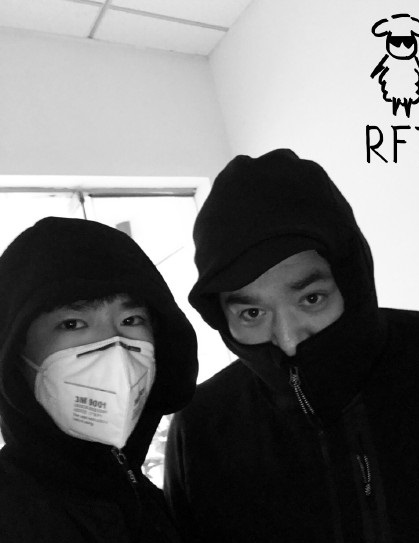face: (219, 268, 345, 396)
face_mask: (34, 295, 153, 447)
